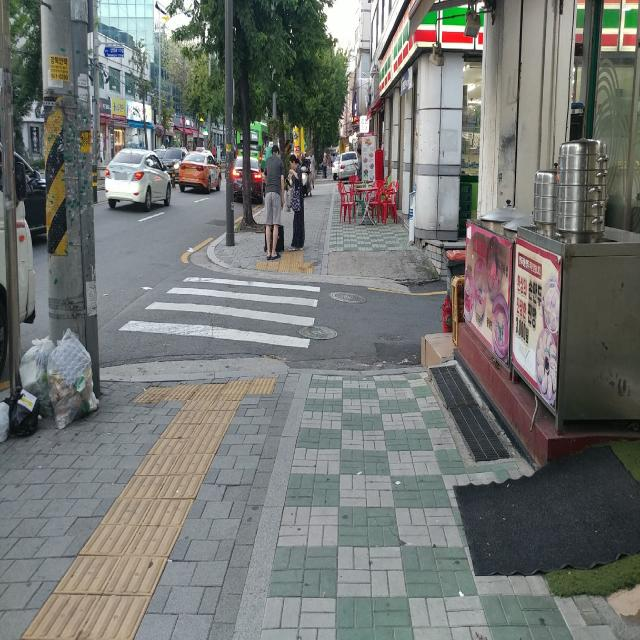횡단보도: (118, 276, 320, 350)
